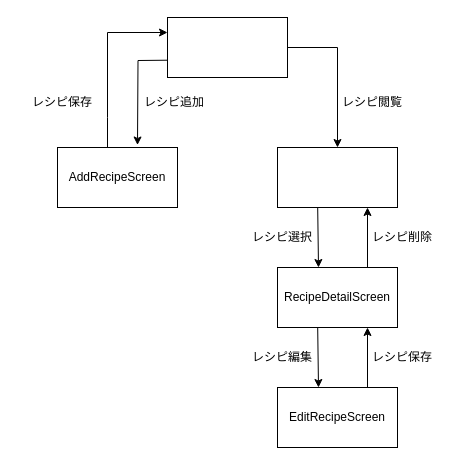
The diagram is 464 pixels wide and 465 high, and some of its shapes have lost their labels. The shapes that lost their labels are listed below. From the top down, each one's box as (x1, y1, x2, y2) in pixels, then its label:
(166, 16, 288, 78): HomeScreen
(276, 146, 398, 208): RecipeViewScreen
